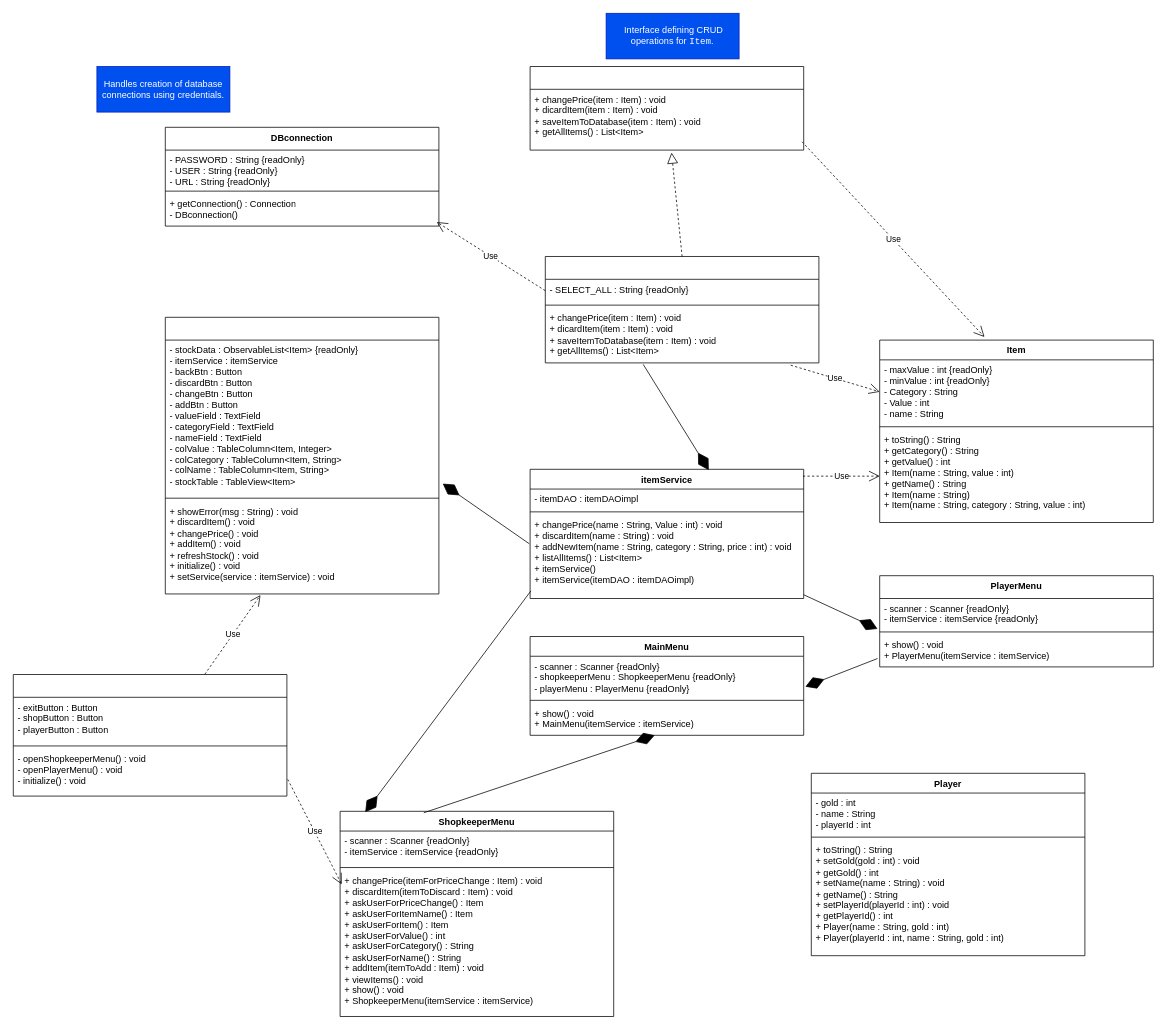
Some shapes in this 1167 by 1032 pixel diagram are drawn without their labels. The box of each missing label's shape, as (x1, y1, x2, y2) in pixels:
<<interface>> itemDAO: (529, 66, 804, 150)
Controller: (13, 674, 287, 796)
itemDAOimpl: (545, 256, 819, 363)
ShopkeeperMenuController: (165, 317, 439, 594)
